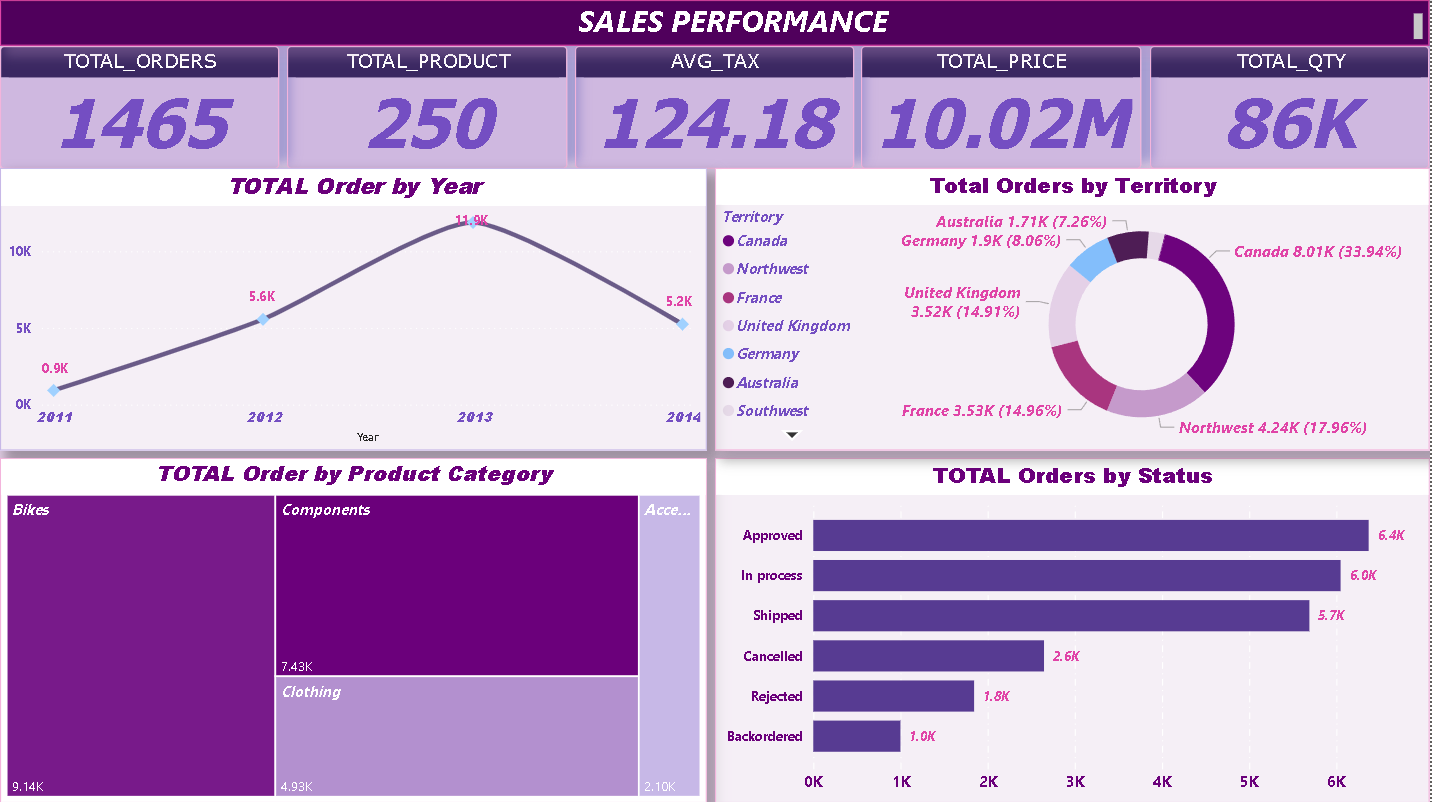

The dashboard page shown, as its layout file describes it:
{"tool":"powerbi","page":{"name":"Page 1","canvas":[1280,720],"ordinal":0},"visuals":[{"type":"card","title":"TOTAL_ORDERS","fields":{"Values":["SALES_FACT.TOTAL_ORDERS"]},"box":[0,40.9,250,109.9],"z":0},{"type":"card","title":"TOTAL_PRODUCT","fields":{"Values":["SALES_FACT.TOTAL_PRODUCT"]},"box":[256.8,40.9,250.9,109.9],"z":1000},{"type":"card","title":"AVG_TAX","fields":{"Values":["SALES_FACT.AVERAGE_TAX"]},"box":[514.5,40.9,250,109.9],"z":2000},{"type":"card","title":"TOTAL_PRICE","fields":{"Values":["SALES_FACT.TOTAL_PRICE"]},"box":[771.3,40.9,250.9,109.9],"z":3000},{"type":"card","title":"TOTAL_QTY","fields":{"Values":["SALES_FACT.TOTAL_QUANTITY"]},"box":[1030,40.9,250,109.9],"z":4000},{"type":"lineChart","title":"TOTAL Order by Year","fields":{"Y":["CountNonNull(SALES_FACT.OrderID)"],"Category":["DATE_DIM.OrderDate.Variation.Date Hierarchy.Year","DATE_DIM.OrderDate.Variation.Date Hierarchy.Quarter","DATE_DIM.OrderDate.Variation.Date Hierarchy.Month","DATE_DIM.OrderDate.Variation.Date Hierarchy.Day"]},"box":[0,150.8,633.2,252.9],"z":5000},{"type":"treemap","title":"TOTAL Order by Product Category","fields":{"Group":["PROUDUCT_DIM.ProductCategory Hierarchy.ProductCategory","PROUDUCT_DIM.ProductCategory Hierarchy.ProductSubCategory","PROUDUCT_DIM.ProductCategory Hierarchy.Product"],"Values":["CountNonNull(SALES_FACT.OrderID)"]},"box":[0,410.5,633.2,309.3],"z":6000},{"type":"barChart","title":"TOTAL Orders by Status","fields":{"Category":["STATUS_DIM.Status"],"Y":["CountNonNull(SALES_FACT.OrderID)"]},"box":[640,410.5,640,309.3],"z":7000},{"type":"donutChart","title":"Total Orders by Territory","fields":{"Category":["TEROTIRY_DIM.Territory"],"Y":["CountNonNull(SALES_FACT.OrderID)"]},"box":[640,150.8,640,252.9],"z":8000},{"type":"textbox","box":[0,0,1280,40.9],"z":9000}]}

Visuals, with their boxes in screenshot pixels (x1, y1, x2, y2), scaled from the page's 1280x720 canvas onto the 1432x802 screenshot:
"TOTAL_ORDERS" card: 0 46 280 168
"TOTAL_PRODUCT" card: 287 46 568 168
"AVG_TAX" card: 576 46 855 168
"TOTAL_PRICE" card: 863 46 1144 168
"TOTAL_QTY" card: 1152 46 1431 168
"TOTAL Order by Year" lineChart: 0 168 708 450
"TOTAL Order by Product Category" treemap: 0 457 708 801
"TOTAL Orders by Status" barChart: 716 457 1431 801
"Total Orders by Territory" donutChart: 716 168 1431 450
textbox: 0 0 1431 46
